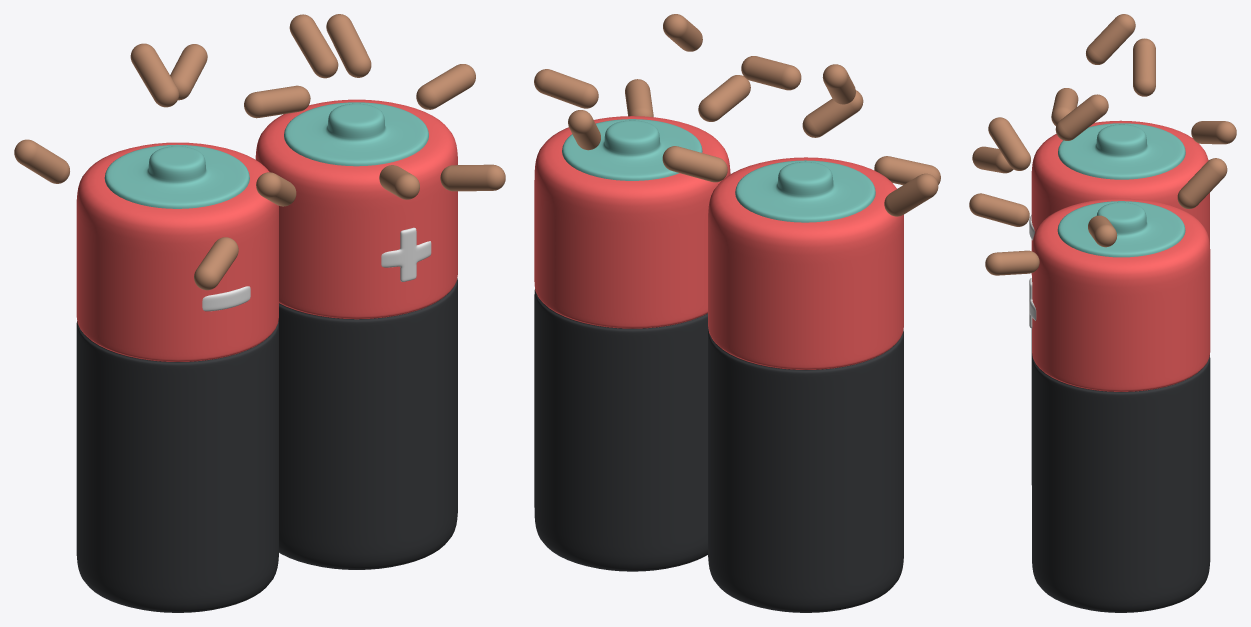
Rendered from Batteries_broke_01.fbx.
The picture shows the model from 3 angles, left to right: view 1: azimuth 30°, elevation 25°; view 2: azimuth 150°, elevation 25°; view 3: azimuth 270°, elevation 25°; orthographic projection. The views are drawn at different scales.
Visible parts, largest first — view 1: Batery_+, Batery_-, -_caps, +_caps, Cube.007, Cube.001, Cube.004, Cube.003, Cube.011, Cube.005, Cube.002, Game_icons_batteries.006 (+5 smaller); view 2: Batery_+, Batery_-, -_caps, +_caps, Cube.005, Cube.006, Cube.003, Cube.010, Cube.002, Cube.009, Cube.008, Cube.004 (+3 smaller); view 3: Batery_-, Batery_+, -_caps, +_caps, Cube.010, Cube.007, Cube.001, Cube.004, Cube.009, Cube.002, Cube.011, Cube.006 (+3 smaller).
Boxes of the visible parts, <box> form: Batery_+: <box>76,142,278,612</box>; Batery_-: <box>255,99,457,569</box>; -_caps: <box>104,144,249,208</box>; +_caps: <box>284,102,428,166</box>; Cube.007: <box>289,14,338,78</box>; Cube.001: <box>130,43,179,107</box>; Cube.004: <box>326,14,371,77</box>; Cube.003: <box>244,85,310,118</box>; Cube.011: <box>440,164,505,191</box>; Cube.005: <box>416,64,475,109</box>; Cube.002: <box>14,139,69,183</box>; Game_icons_batteries.006: <box>381,227,431,281</box>; Batery_+: <box>708,157,903,612</box>; Batery_-: <box>534,116,730,571</box>; -_caps: <box>735,160,875,222</box>; +_caps: <box>562,119,702,180</box>; Cube.005: <box>534,69,598,108</box>; Cube.006: <box>662,146,727,182</box>; Cube.003: <box>741,56,801,90</box>; Cube.010: <box>698,75,750,121</box>; Cube.002: <box>884,173,938,216</box>; Cube.009: <box>802,90,863,137</box>; Cube.008: <box>874,156,940,184</box>; Cube.004: <box>663,14,702,51</box>; Batery_-: <box>1032,198,1210,612</box>; Batery_+: <box>1031,120,1209,484</box>; -_caps: <box>1058,123,1185,179</box>; +_caps: <box>1057,201,1185,257</box>; Cube.010: <box>969,193,1029,226</box>; Cube.007: <box>1177,158,1227,209</box>; Cube.001: <box>1086,14,1135,64</box>; Cube.004: <box>1055,94,1108,140</box>; Cube.009: <box>988,117,1030,170</box>; Cube.002: <box>1133,38,1155,96</box>; Cube.011: <box>985,250,1039,275</box>; Cube.006: <box>1191,121,1236,144</box>.
Size of the model in its own units: 317 by 376 by 191.
